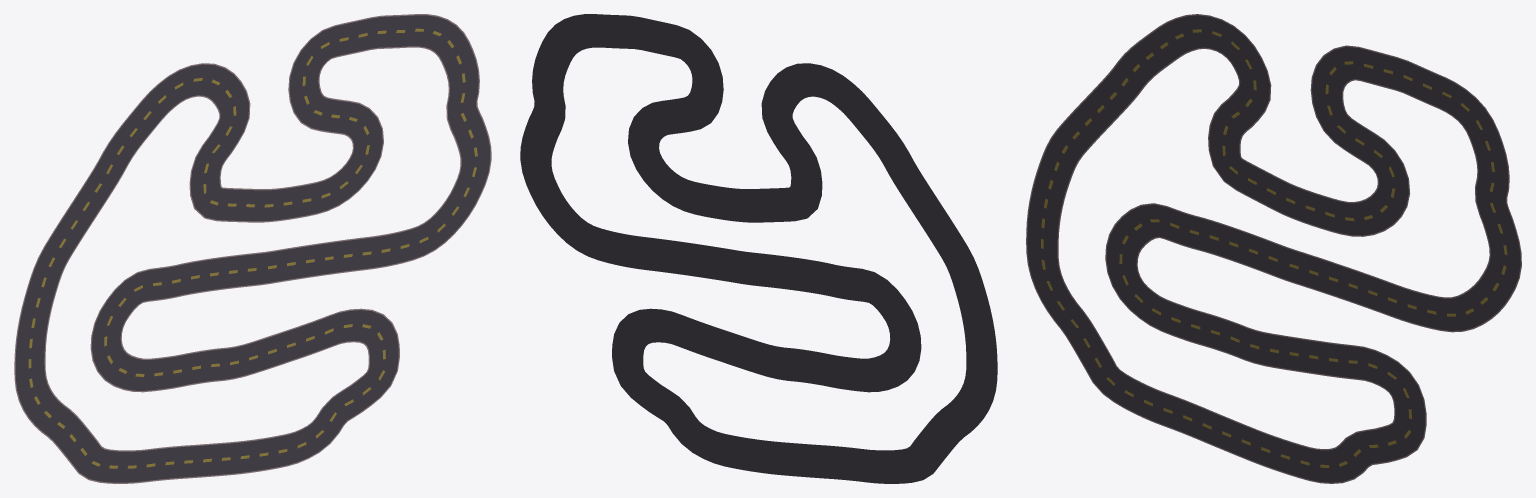
The model's file is track.obj.
3 views of the same model, side by side, from view 1: azimuth 30°, elevation 25°; view 2: azimuth 150°, elevation 25°; view 3: azimuth 330°, elevation 25° (orthographic). The views are drawn at different scales.
Size of the model in its own units: 16.31 by 14.03 by 0.002.
